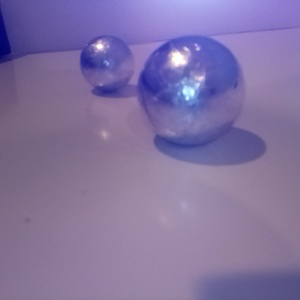alive_ball: (137, 35, 245, 148), (80, 35, 136, 93)
